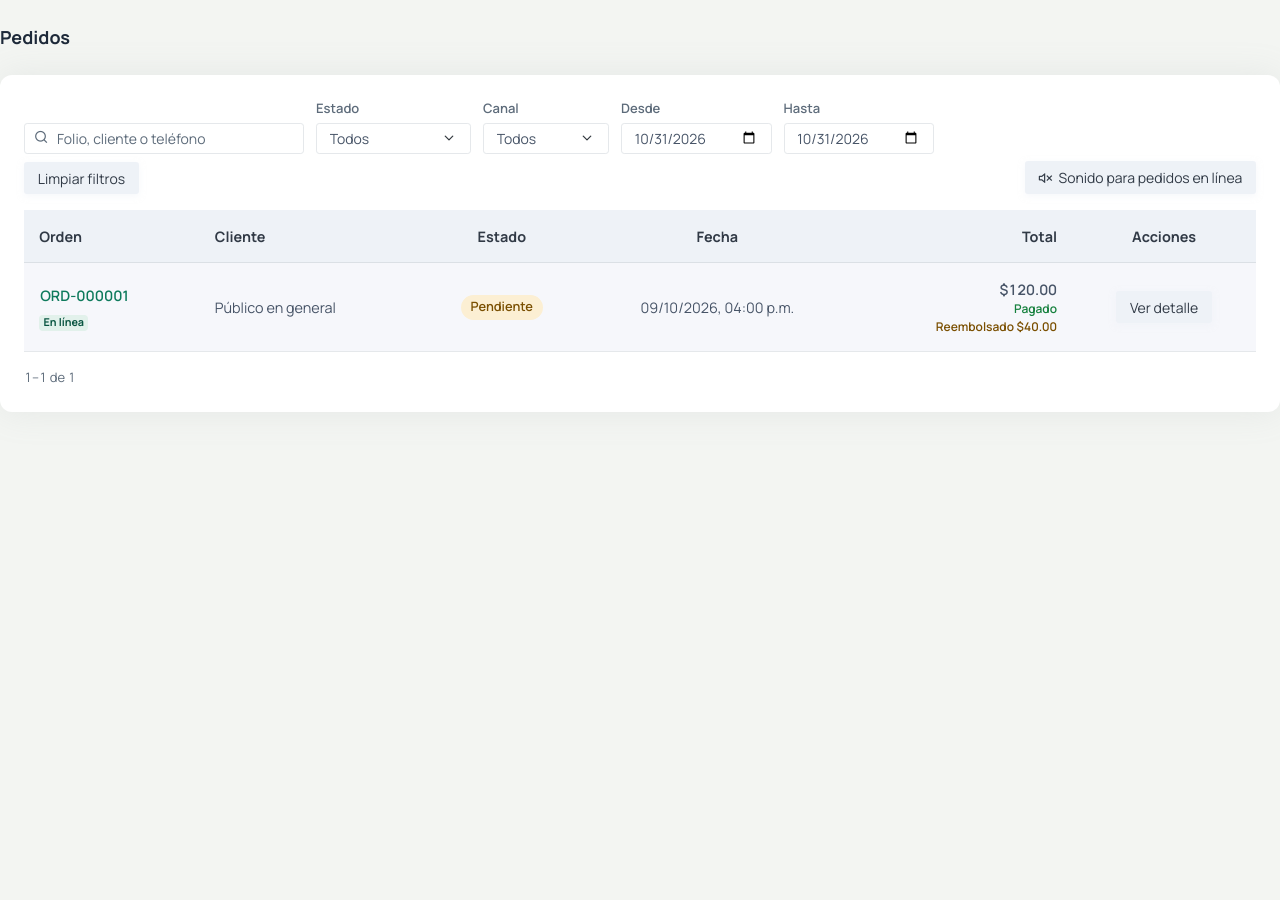
Test: OrdersList › says nothing of a refund made online while the whole order has not come, rather than a guess
Click the button "ORD-000001" at (84, 296), box [39,284,130,308]
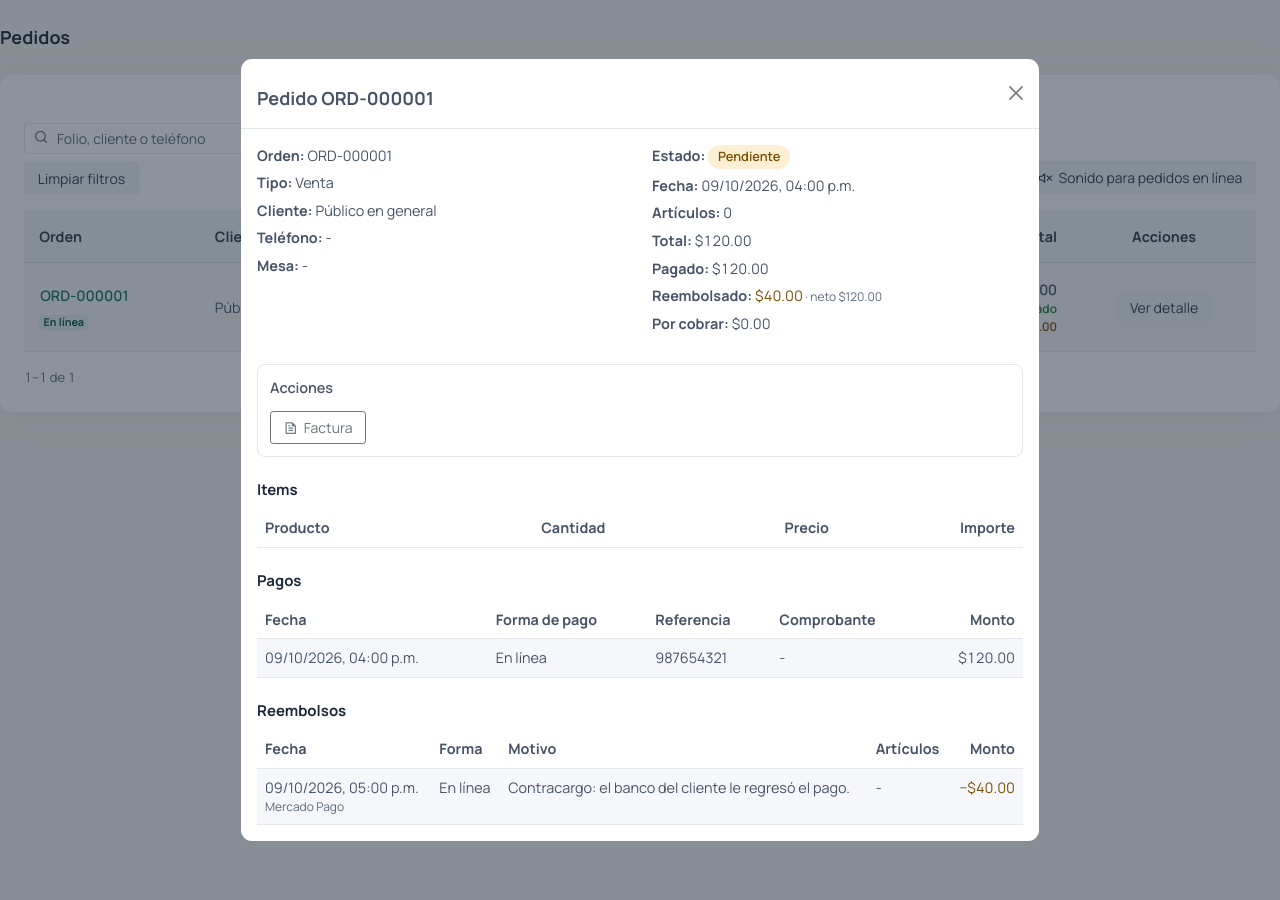
Expected: the heading "Reembolsos" is shown, [257,700,346,720]
